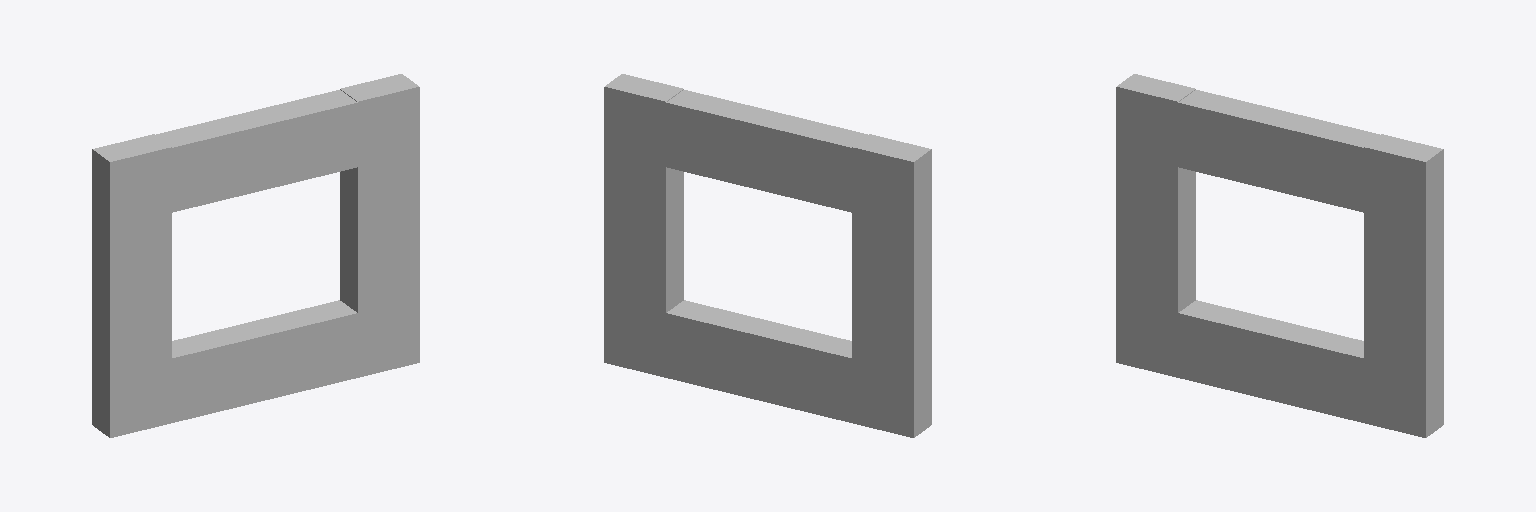
File: oven_door.obj
3 views of the same model, side by side, from view 1: azimuth 30°, elevation 25°; view 2: azimuth 150°, elevation 25°; view 3: azimuth 330°, elevation 25° (orthographic).
Parts seen in each view (by area): view 1: Cube.009_Cube.007, Cube.008_Cube.007, Cube.003_Cube.007, Cube.005_Cube.007; view 2: Cube.009_Cube.007, Cube.005_Cube.007, Cube.003_Cube.007, Cube.008_Cube.007; view 3: Cube.003_Cube.007, Cube.009_Cube.007, Cube.008_Cube.007, Cube.005_Cube.007.
Boxes of the visible parts, x1,y1,x2,y2 form: Cube.009_Cube.007: [92, 134, 171, 436]; Cube.008_Cube.007: [340, 74, 419, 376]; Cube.003_Cube.007: [93, 88, 419, 225]; Cube.005_Cube.007: [93, 298, 419, 437]; Cube.009_Cube.007: [852, 134, 931, 436]; Cube.005_Cube.007: [604, 298, 930, 437]; Cube.003_Cube.007: [604, 88, 929, 226]; Cube.008_Cube.007: [604, 74, 683, 376]; Cube.003_Cube.007: [1116, 88, 1443, 226]; Cube.009_Cube.007: [1116, 74, 1195, 376]; Cube.008_Cube.007: [1364, 134, 1443, 436]; Cube.005_Cube.007: [1116, 299, 1443, 437].
Bounding box in the file's own units: 2 × 1.71 × 0.2.